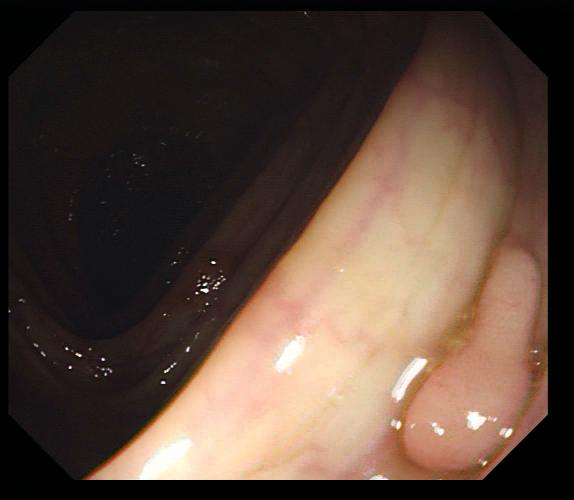polyp: (399, 250, 544, 472)
